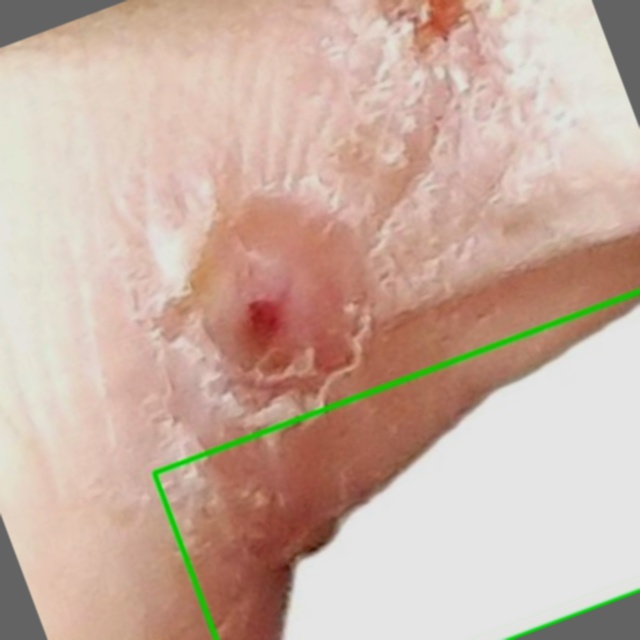Contact Dermatitis: (154, 291, 639, 639)
